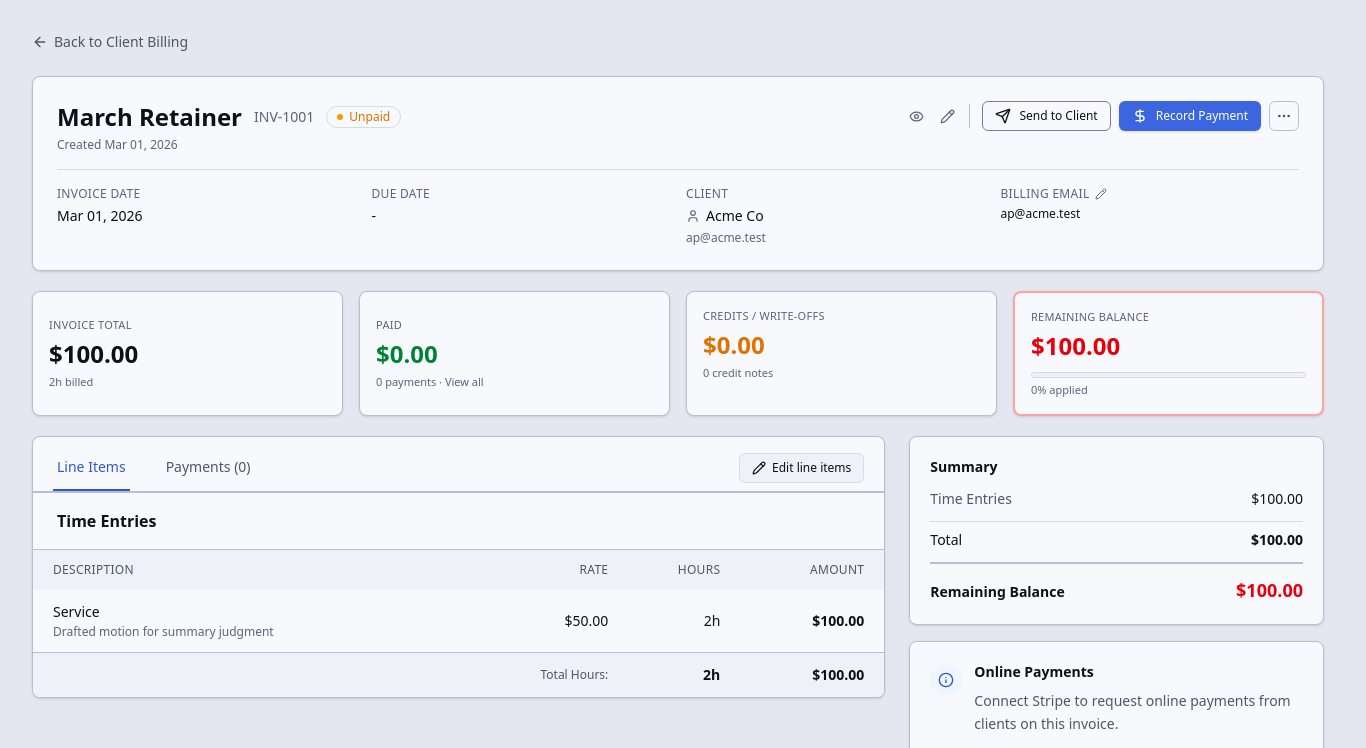
it: a refused action: the payment is rejected › tells the user the payment was not recorded, and keeps the invoice as it was
The image size is (1366, 748).
Click the button "Record Payment".
click(1190, 116)  # box x1=1119 y1=101 x2=1261 y2=131
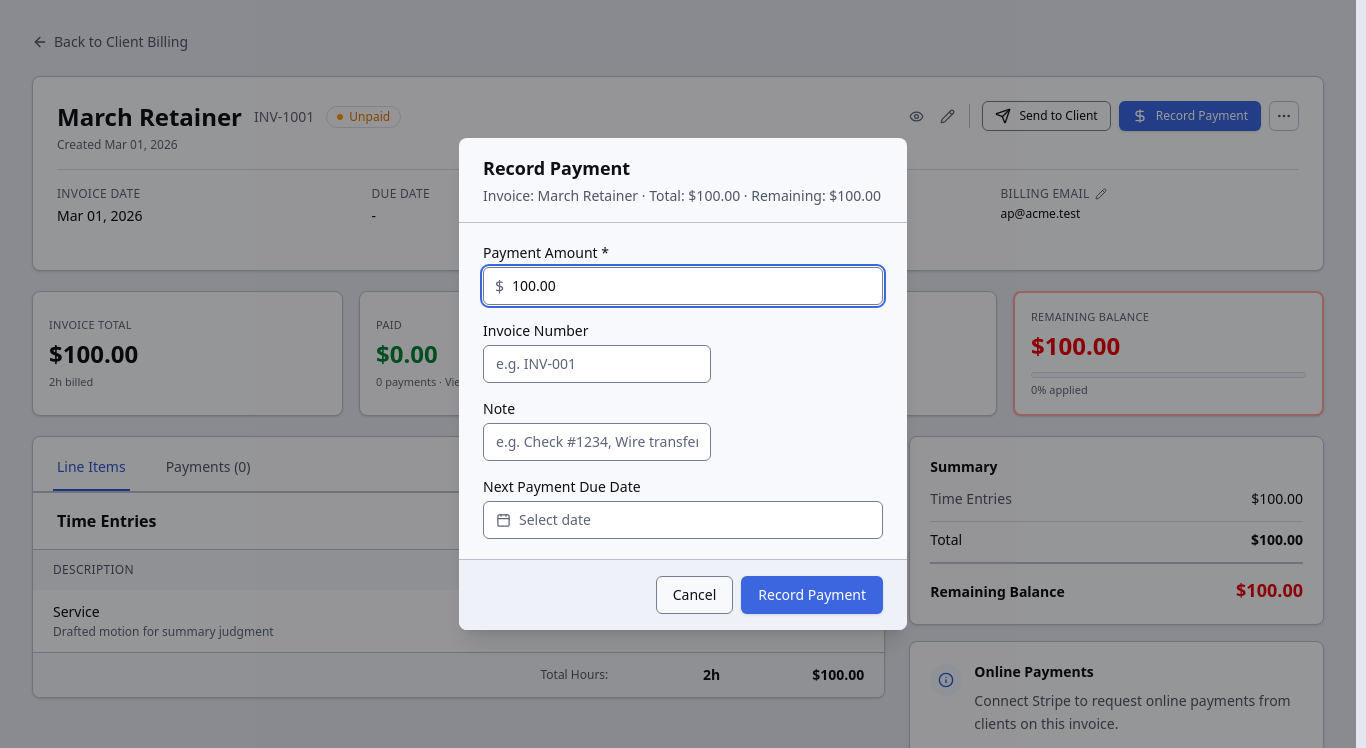
Click the button "Record Payment".
click(812, 595)  # box x1=741 y1=576 x2=883 y2=614
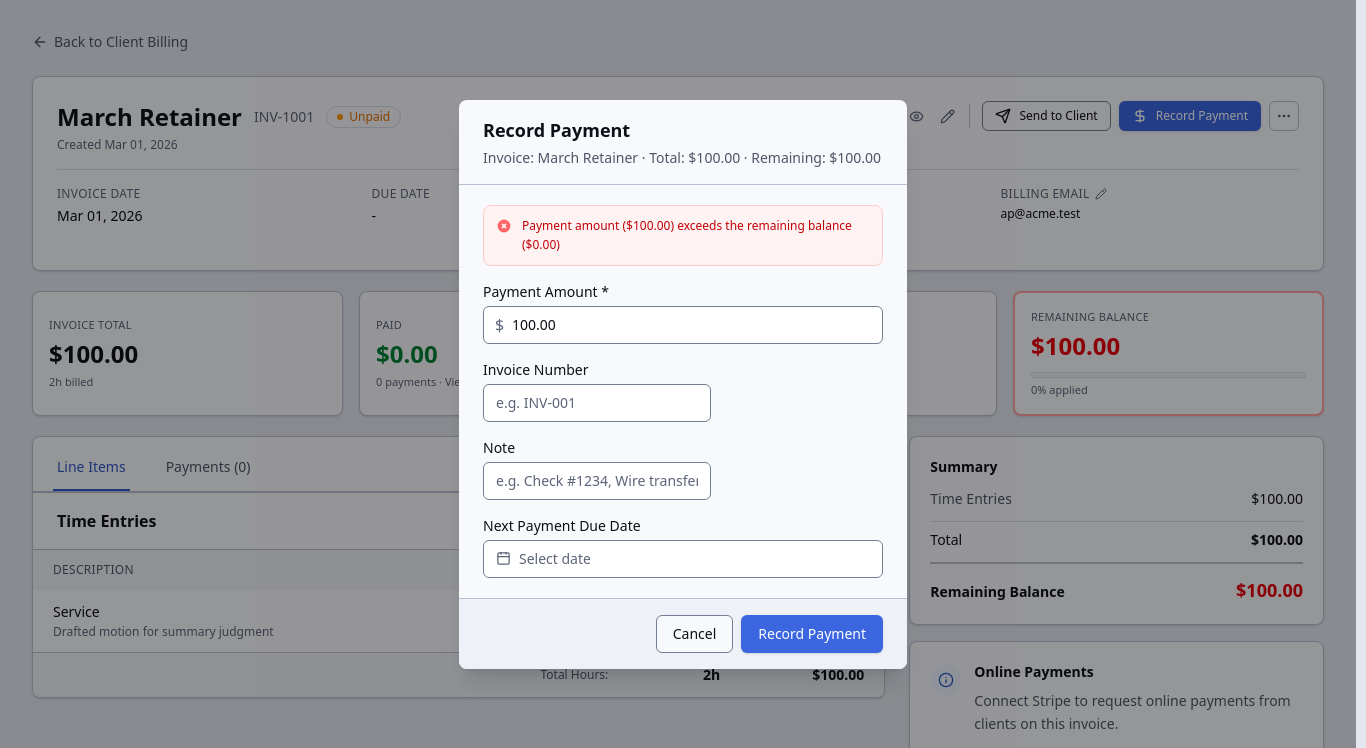
Expected: the text "Unpaid" is shown, x1=326 y1=106 x2=401 y2=128
Expected: the dialog is shown, x1=459 y1=100 x2=907 y2=668
Expected: the message shows "exceeds the remaining balance", x1=522 y1=216 x2=852 y2=253
